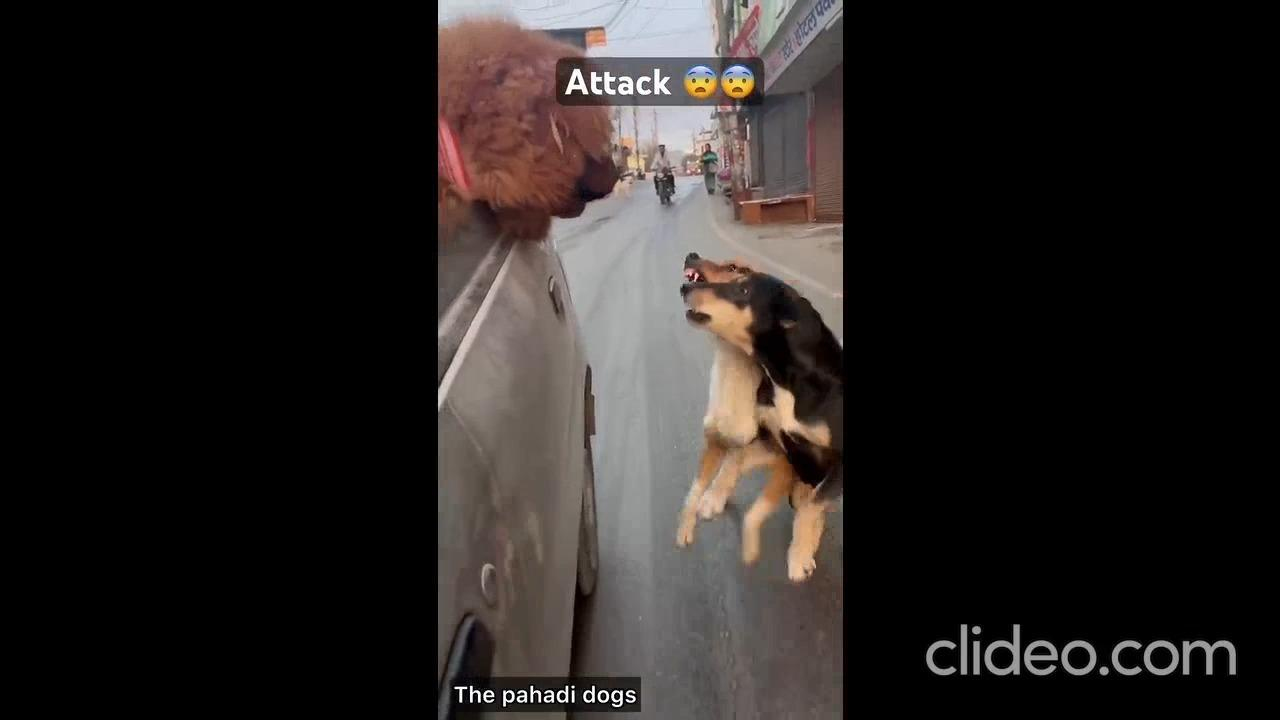dog: (681, 272, 840, 564), (677, 244, 757, 535)
